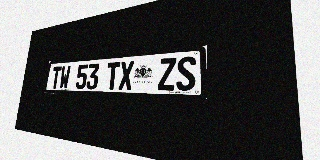3: (86, 63, 100, 89)
5: (75, 64, 88, 89)
S: (176, 56, 196, 91)
T: (105, 62, 120, 90), (50, 66, 62, 89)
W: (59, 65, 71, 89)
X: (118, 61, 134, 90)
Z: (158, 57, 176, 91)
